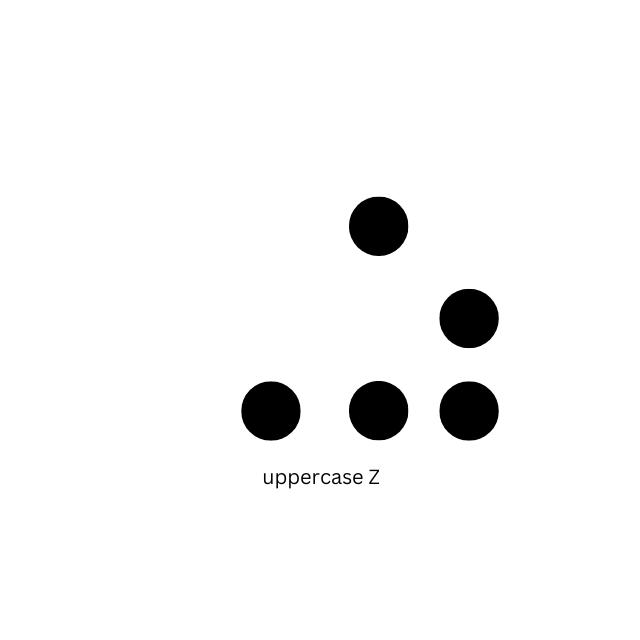capital_sign: (145, 195, 301, 442)
letter_Z: (345, 195, 501, 441)
